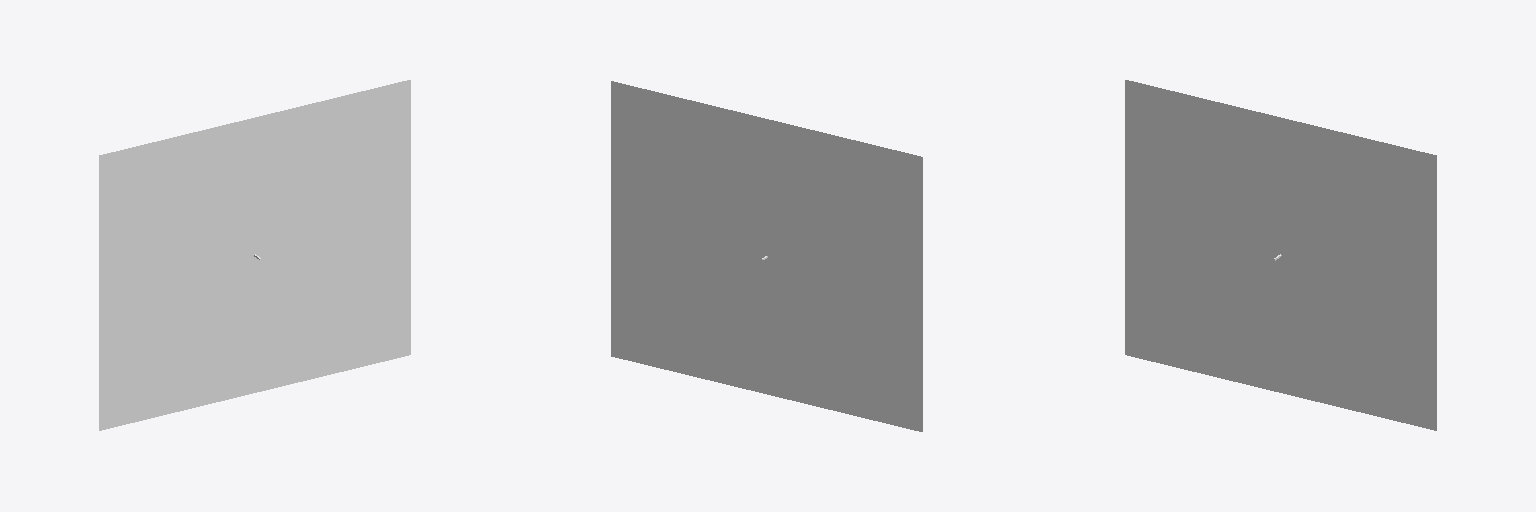
Rendered from restaurante.obj.
3 views of the same model, side by side, from view 1: azimuth 30°, elevation 25°; view 2: azimuth 150°, elevation 25°; view 3: azimuth 330°, elevation 25° (orthographic).
Parts seen in each view (by area): view 1: pPlane1_Mesh.024; view 2: pPlane1_Mesh.024; view 3: pPlane1_Mesh.024.
Part boxes in pixels (bbox=[...]): pPlane1_Mesh.024: bbox=[99, 80, 410, 430]; pPlane1_Mesh.024: bbox=[611, 81, 922, 431]; pPlane1_Mesh.024: bbox=[1125, 80, 1436, 430].
Bounding box in the file's own units: 814 × 688 × 47.99.